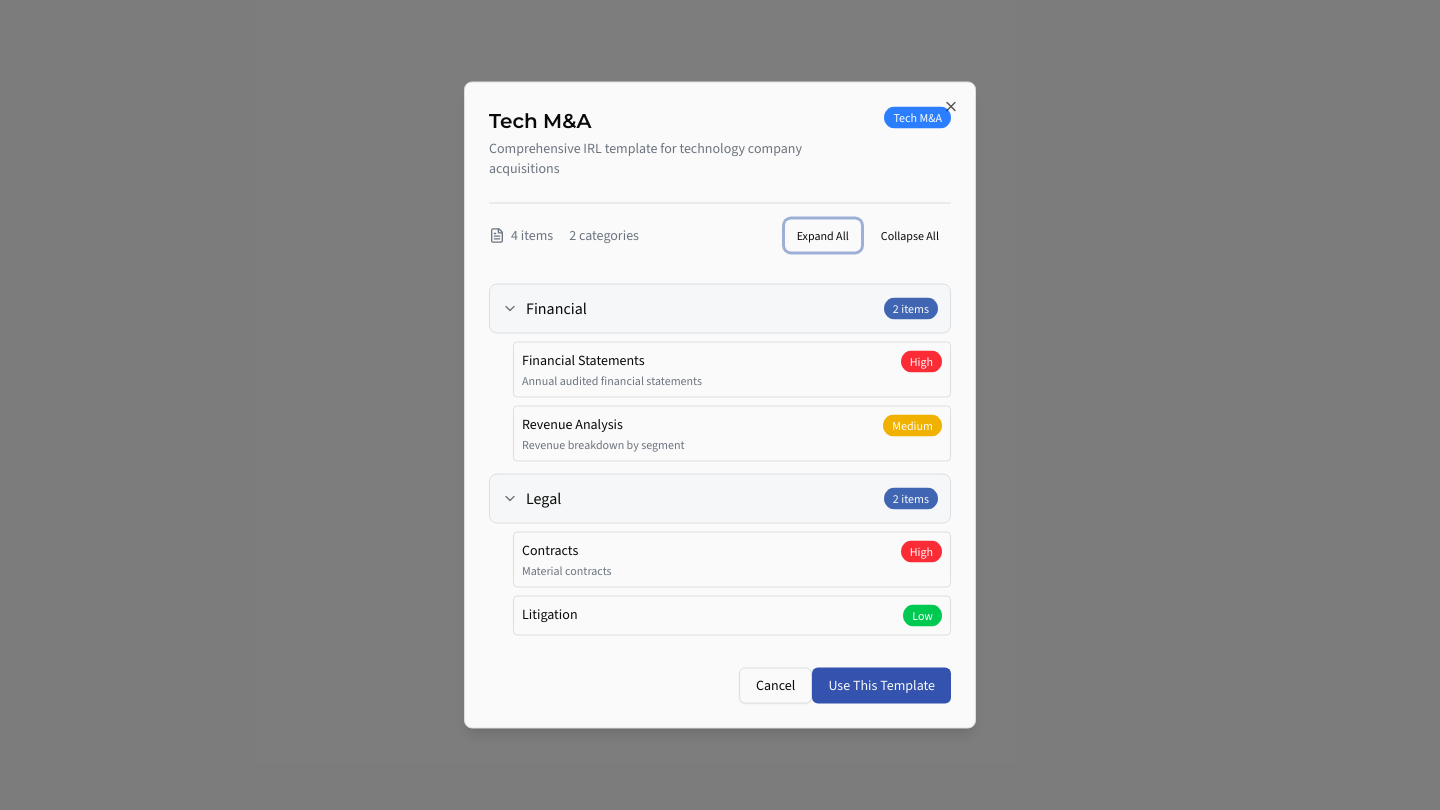
it: IRLTemplateModal › collapsible categories (AC7) › should collapse category when clicked
The width and height of the screenshot is (1440, 810).
Click the button with test id "category-financial" at x=556, y=308, box 489,284 -> 951,334
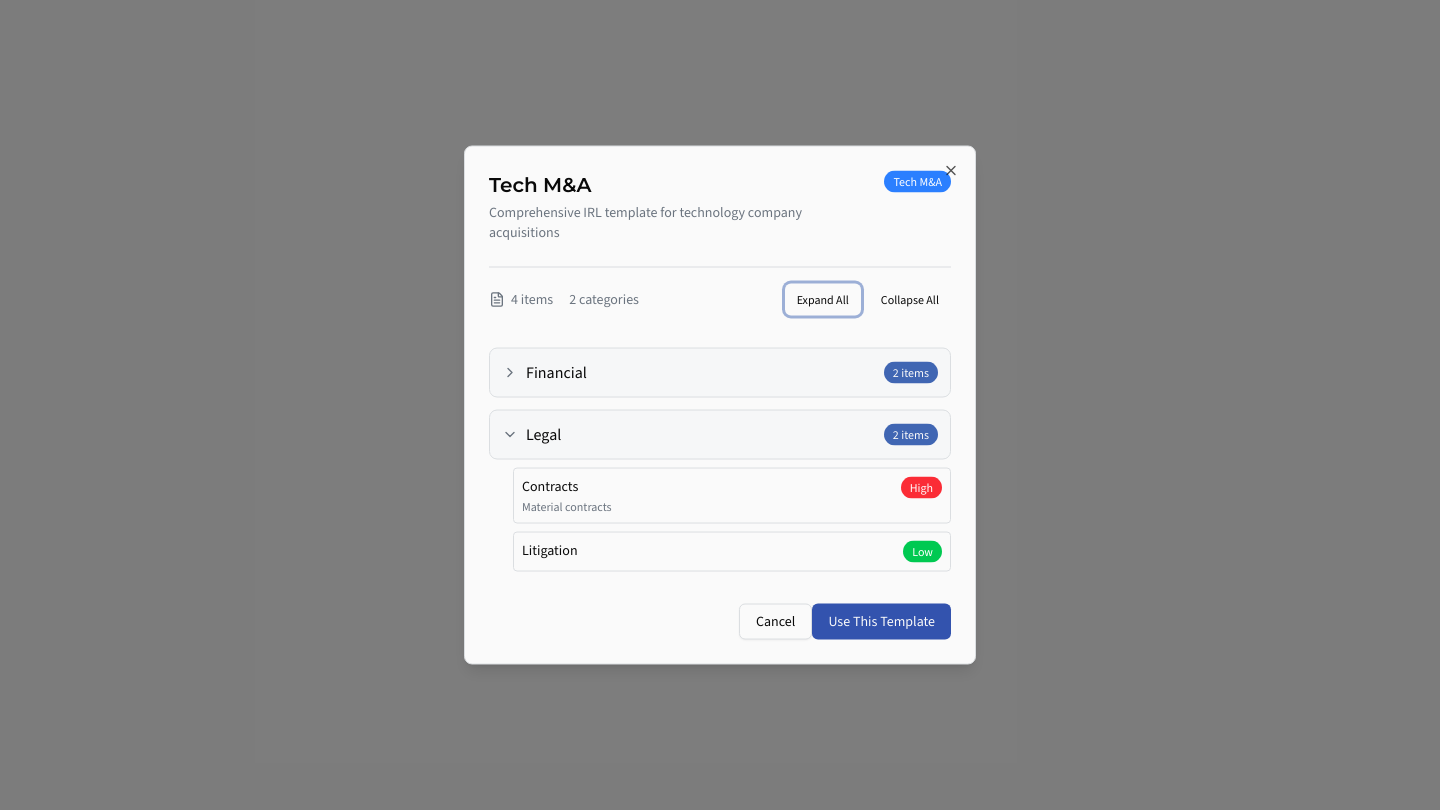
Expected: the number of elements with test id "template-item" is 2, 513,468 -> 951,524; 513,532 -> 951,572
